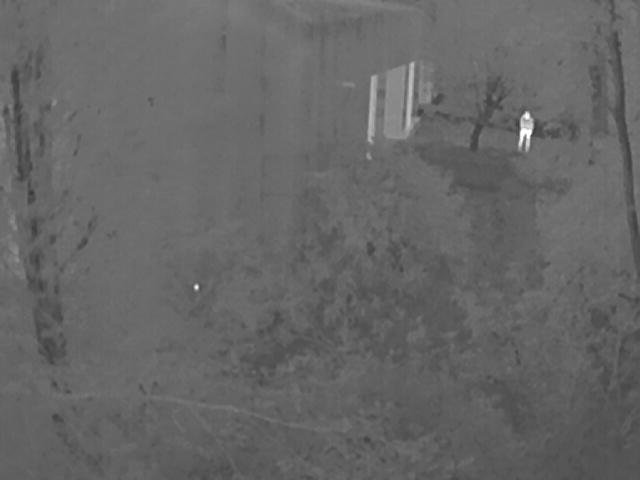person: (516, 111, 536, 151)
